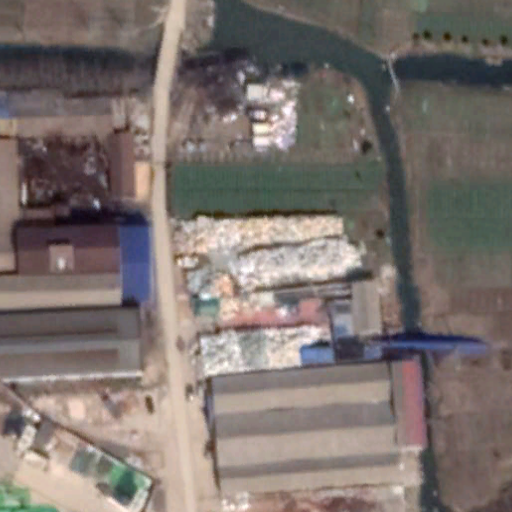msw: (176, 213, 363, 298), (192, 324, 333, 378)
